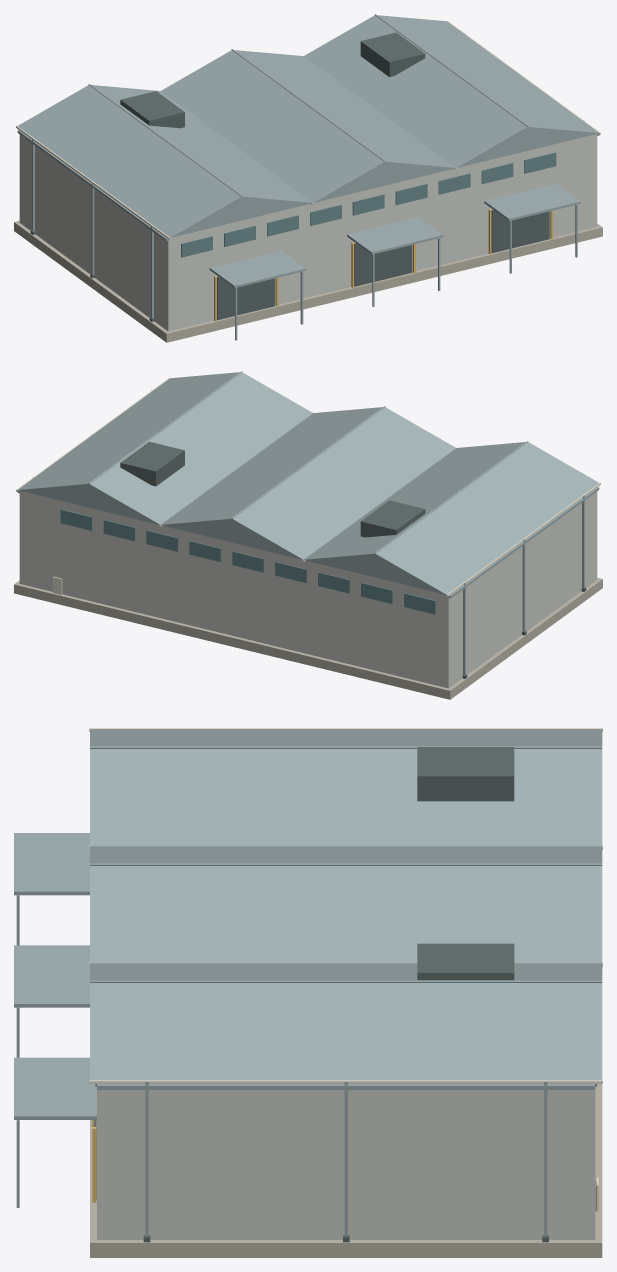
3 views of the same model, one above another, from view 1: azimuth 30°, elevation 25°; view 2: azimuth 150°, elevation 25°; view 3: azimuth 270°, elevation 25° (orthographic). The views are drawn at different scales.
Size of the model in its own units: 61 by 17.5 by 42.55.
